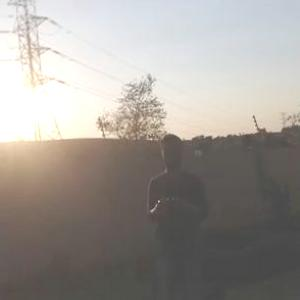follow: (143, 131, 213, 299)
